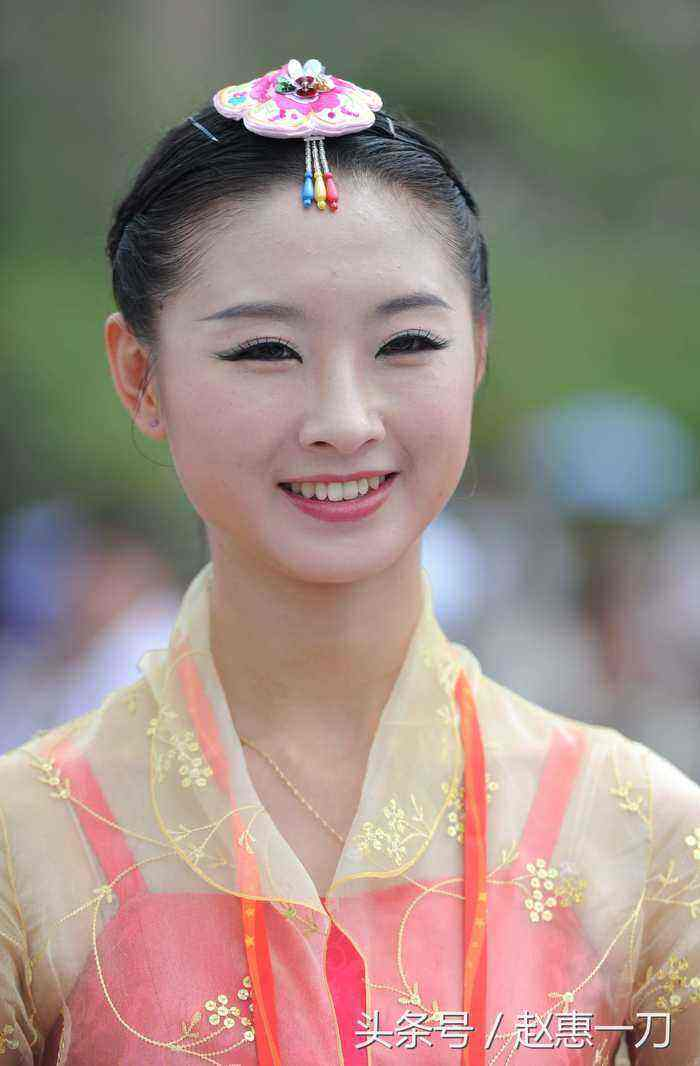person: (110, 139, 591, 1016)
